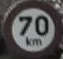Speed limit: (9, 6, 54, 50)
